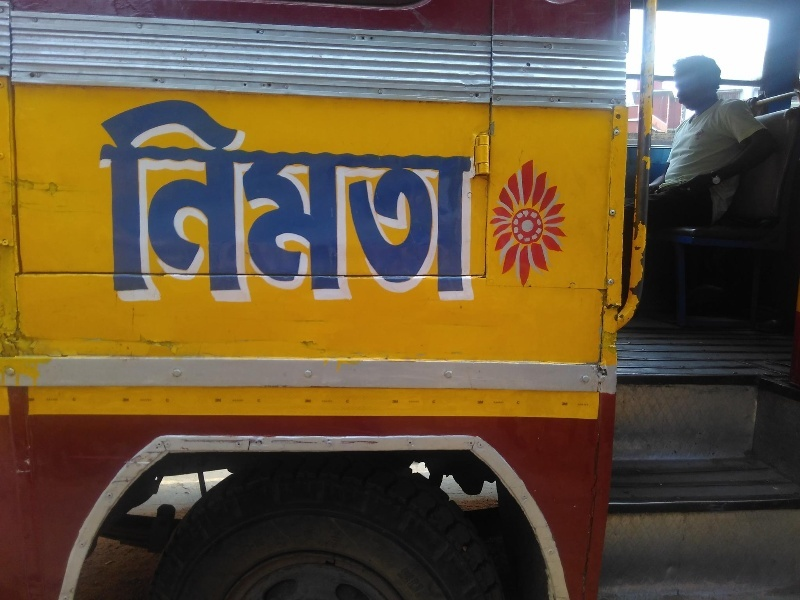text: (97, 96, 112, 307), (113, 96, 128, 307), (129, 96, 144, 307), (145, 96, 160, 307), (161, 96, 176, 307), (177, 96, 192, 307), (193, 96, 208, 307), (209, 96, 224, 307), (225, 96, 240, 307), (241, 96, 256, 307), (257, 96, 272, 307), (273, 96, 288, 307), (289, 96, 304, 307), (305, 96, 320, 307), (321, 96, 336, 307), (337, 96, 352, 307), (353, 96, 368, 307), (369, 96, 384, 307), (385, 96, 400, 307), (401, 96, 416, 307), (417, 96, 432, 307), (433, 96, 448, 307), (449, 96, 464, 307), (465, 96, 479, 307), (93, 96, 96, 307)
